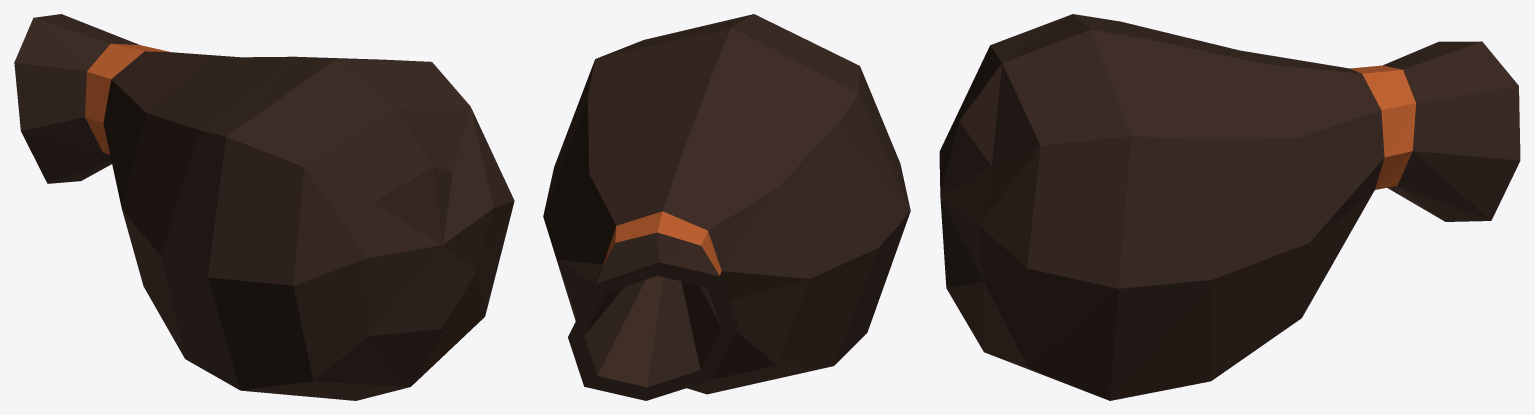
Rendered from Bag 01.FBX.
3 views of the same model, side by side, from view 1: azimuth 30°, elevation 25°; view 2: azimuth 150°, elevation 25°; view 3: azimuth 270°, elevation 25° (orthographic). The views are drawn at different scales.
Visible parts, largest first — view 1: Bag 01; view 2: Bag 01; view 3: Bag 01.
Boxes of the visible parts, bbox=[...] form: Bag 01: bbox=[14, 14, 514, 400]; Bag 01: bbox=[543, 14, 910, 400]; Bag 01: bbox=[939, 14, 1520, 400].
Bounding box in the file's own units: 51.92 × 77.08 × 51.03.
1 material, 1 textured.
